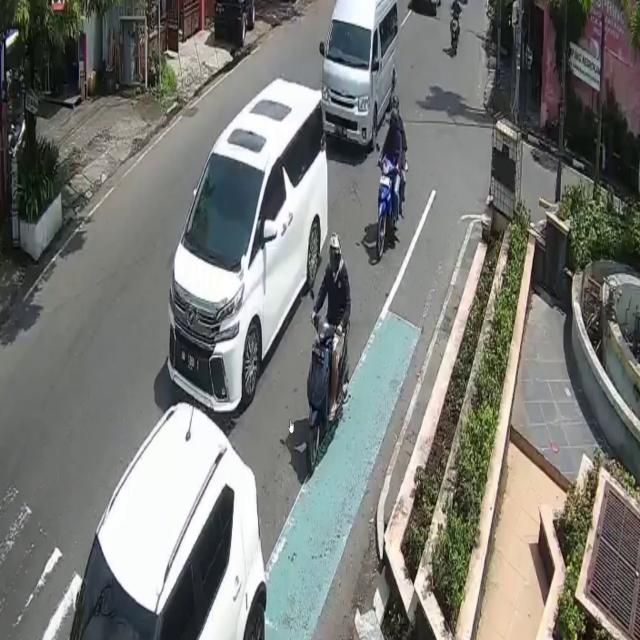bus: (322, 0, 396, 155)
car: (168, 73, 327, 412), (70, 400, 266, 640)
motorbike: (308, 312, 350, 469), (378, 160, 395, 255)
